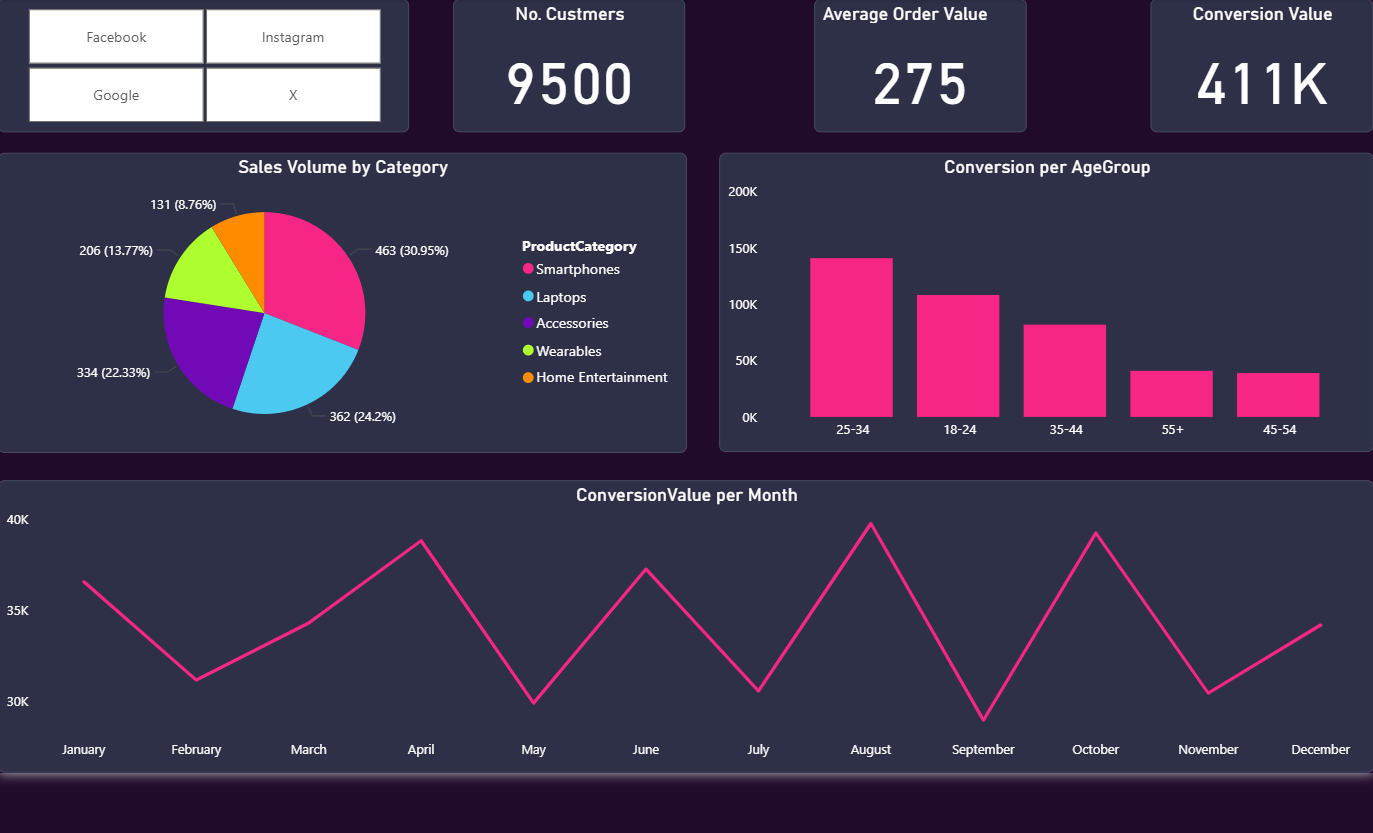

The page's visual inventory and layout, read from the dashboard file:
{"tool":"powerbi","page":{"name":"Conversion Value","canvas":[1280,720],"ordinal":2},"visuals":[{"type":"pieChart","title":"Sales Volume by Category","fields":{"Category":["FitBitDataMarketing.ProductCategory"],"Y":["Sum(FitBitDataMarketing.Conversions)"]},"box":[0,143,640.7,279.1],"z":0},{"type":"card","title":"Average Order Value","fields":{"Values":["FitBitDataMarketing.Average Order Value"]},"box":[758.8,0,197.5,123.8],"z":1000},{"type":"lineChart","title":"ConversionValue per Month","fields":{"Y":["Sum(FitBitDataMarketing.ConversionValue)"],"Category":["FitBitDataMarketing.DateTime.Variation.Date Hierarchy.Month"]},"box":[0,447.7,1280.2,272.1],"z":2000},{"type":"card","title":"Conversion Value","fields":{"Values":["Sum(FitBitDataMarketing.ConversionValue)"]},"box":[1072.5,0,207.5,123.8],"z":3000},{"type":"columnChart","title":"Conversion per AgeGroup","fields":{"Category":["FitBitDataMarketing.AgeGroup"],"Y":["Sum(FitBitDataMarketing.ConversionValue)"]},"box":[671.2,142.5,608.8,278.8],"z":4000},{"type":"card","title":"No. Custmers","fields":{"Values":["CountNonNull(FitBitDataMarketing.CustomerID)"]},"box":[423.8,0,216.2,123.8],"z":5000},{"type":"slicer","fields":{"Values":["FitBitDataMarketing.AdPlatform"]},"box":[0,0,382.8,124.2],"z":6000}]}

Visuals, with their boxes on the page's 1280x720 design canvas (x1, y1, x2, y2). These are canvas units, not pixel positions in the 1373x833 screenshot, which may show the page scaled, cropped or inside an application window:
"Sales Volume by Category" pieChart: <region>0, 143, 641, 422</region>
"Average Order Value" card: <region>759, 0, 956, 124</region>
"ConversionValue per Month" lineChart: <region>0, 448, 1280, 720</region>
"Conversion Value" card: <region>1072, 0, 1280, 124</region>
"Conversion per AgeGroup" columnChart: <region>671, 142, 1280, 421</region>
"No. Custmers" card: <region>424, 0, 640, 124</region>
slicer - FitBitDataMarketing.AdPlatform: <region>0, 0, 383, 124</region>
